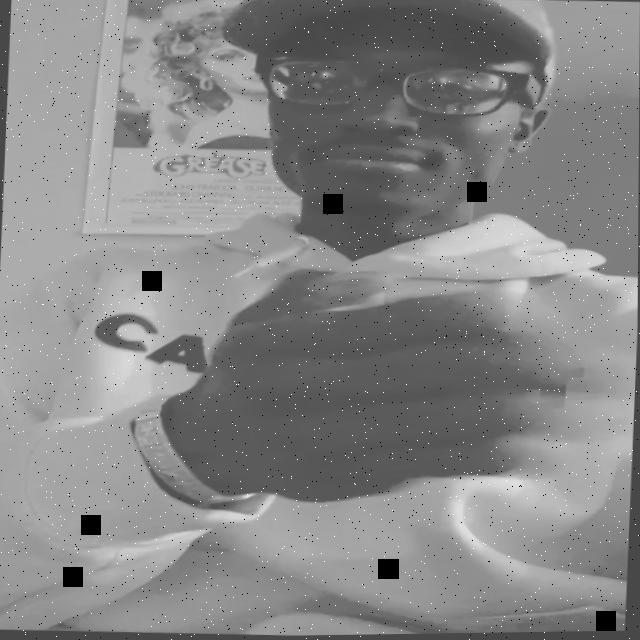Paper: (155, 257, 591, 508)
